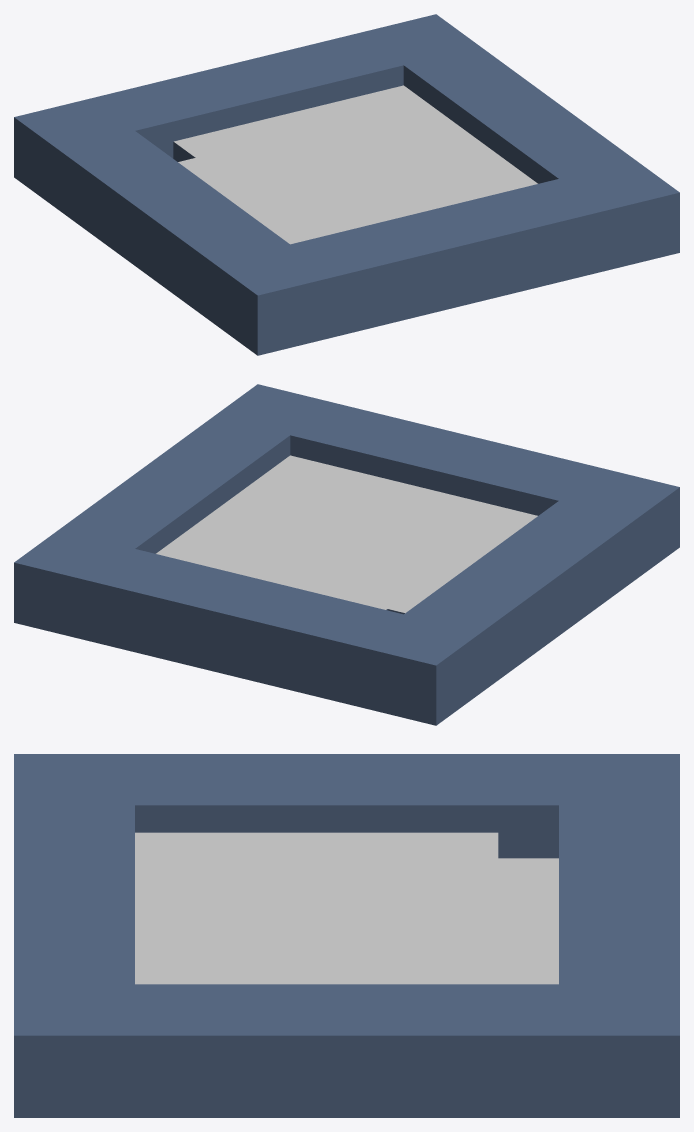
File: 002_platform.fbx
3 renders of one model, top to bottom at view 1: azimuth 30°, elevation 25°; view 2: azimuth 150°, elevation 25°; view 3: azimuth 270°, elevation 25°, orthographic. The views are drawn at different scales.
Parts seen in each view (by area): view 1: Plane; view 2: Plane; view 3: Plane.
Part boxes in pixels (box(x1,y1,x2,y2)): Plane: box(14, 14, 679, 355); Plane: box(14, 384, 679, 725); Plane: box(14, 754, 679, 1117).
Size of the model in its own units: 1100 by 150 by 1100.
